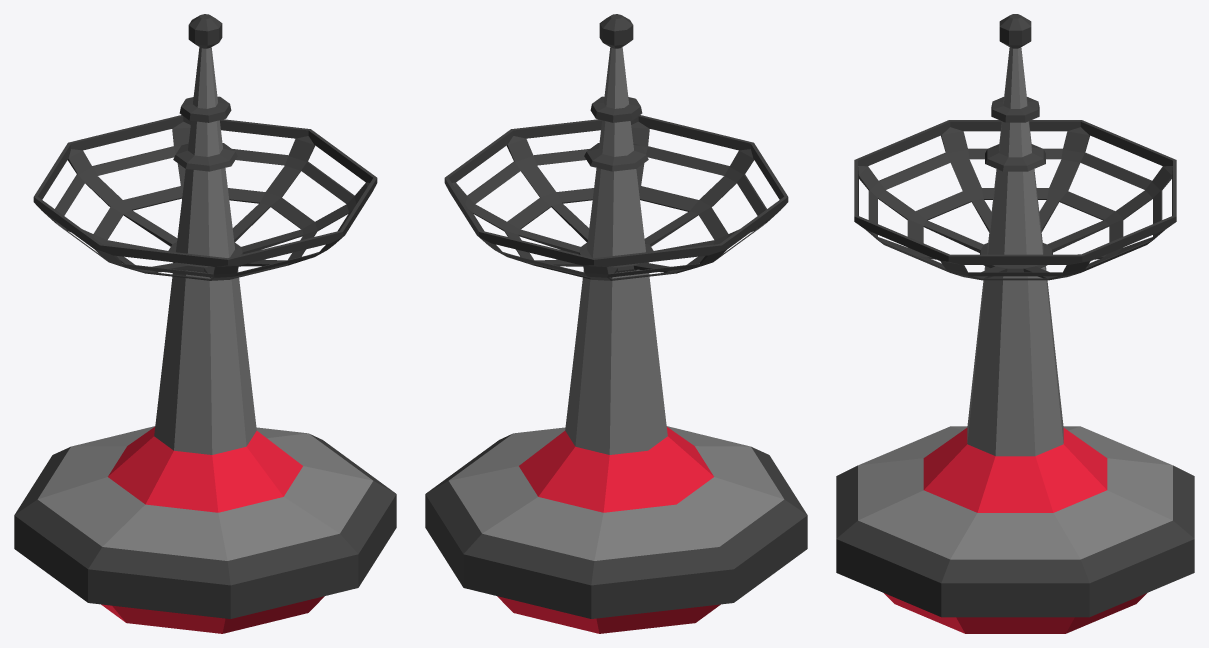
Rendered from grapplebeam.fbx.
The picture shows the model from 3 angles, left to right: view 1: azimuth 30°, elevation 25°; view 2: azimuth 150°, elevation 25°; view 3: azimuth 270°, elevation 25°; orthographic projection.
Parts seen in each view (by area): view 1: GrappleBeam1; view 2: GrappleBeam1; view 3: GrappleBeam1.
Boxes of the visible parts, box(x1,y1,x2,y2) form: GrappleBeam1: box(14, 14, 396, 633); GrappleBeam1: box(425, 14, 807, 633); GrappleBeam1: box(836, 14, 1194, 633).
Bounding box in the file's own units: 97.97 × 171 × 97.97.
